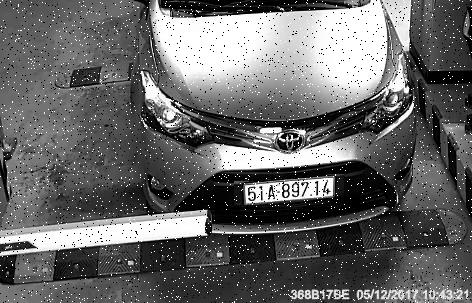License-plate: (236, 176, 347, 210)
